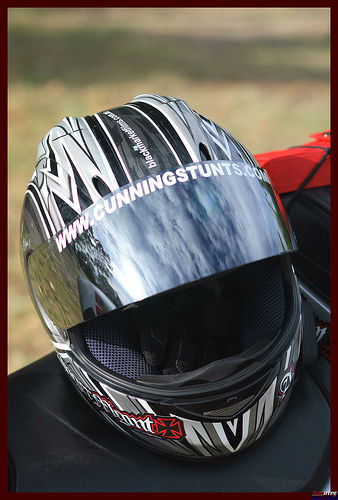helmet: (21, 107, 315, 440)
